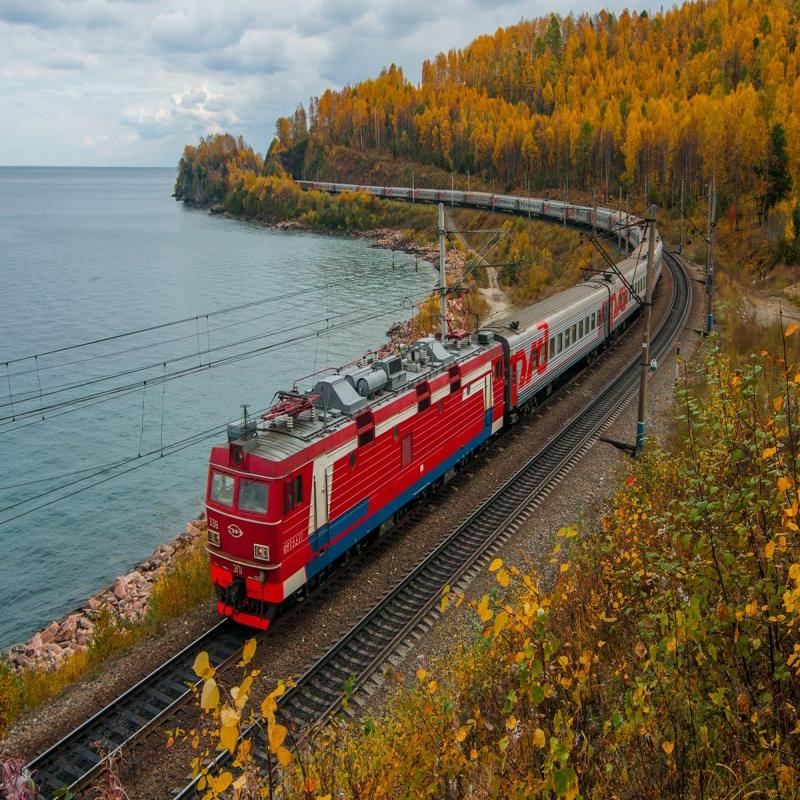train: (196, 269, 508, 648), (494, 249, 613, 438)
